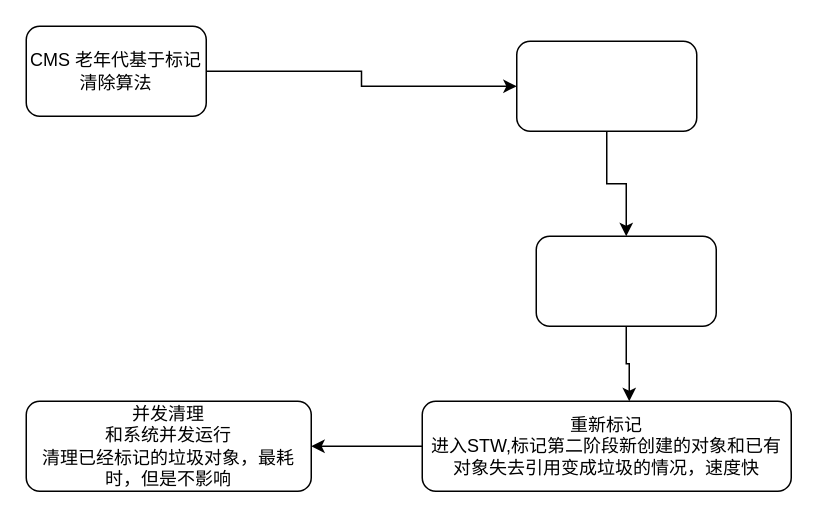
Image size: 818x518. Some labels were removed from this diagram. The shapes that lost their labels are listed below. From the top down, each one's box as (x1, y1, x2, y2) in pixels, then its label:
(515, 40, 697, 131): 初始标记 STW 速度快，标记GC roots直接引用
(535, 235, 716, 326): 并发标记 和系统并发运行 对GC roots追踪时间长，但不影响
